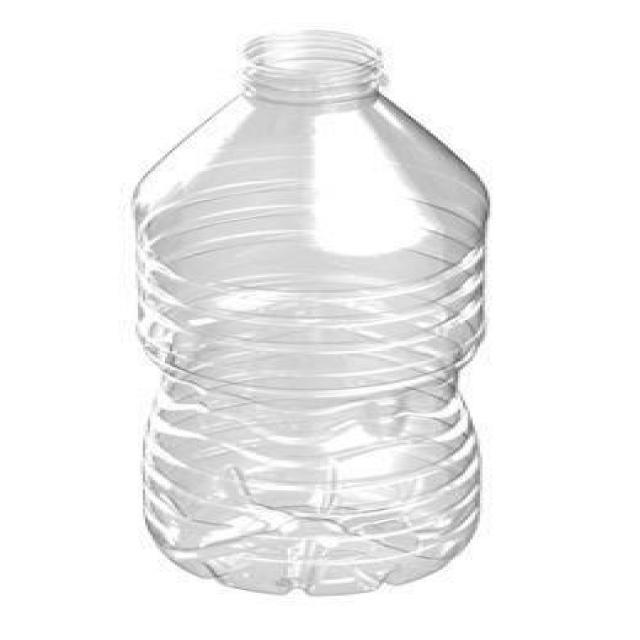plastic_bottle: (129, 30, 490, 596)
